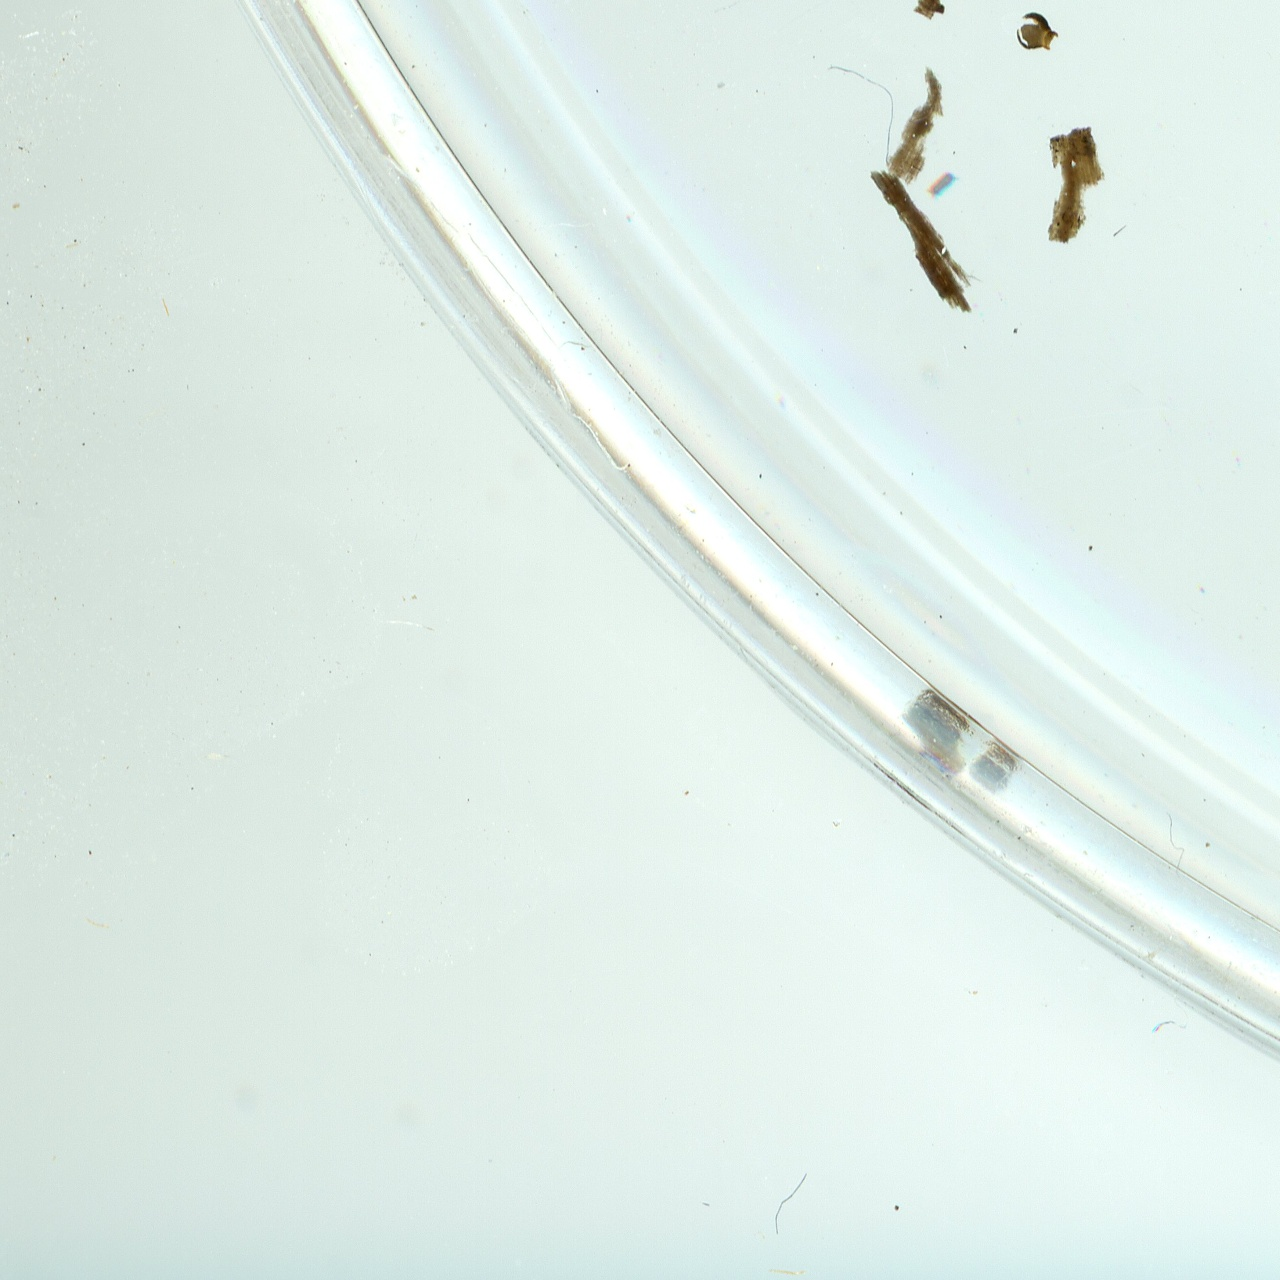arthropod: (922, 164, 961, 205)
